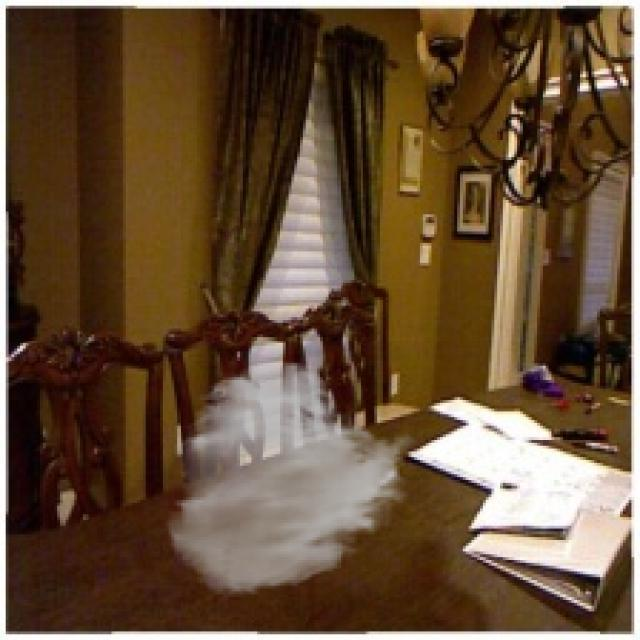Smoke: (162, 357, 418, 597)
